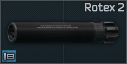B&T Rotex 2 4.6x30 sound suppressor: (0, 0, 127, 64)
